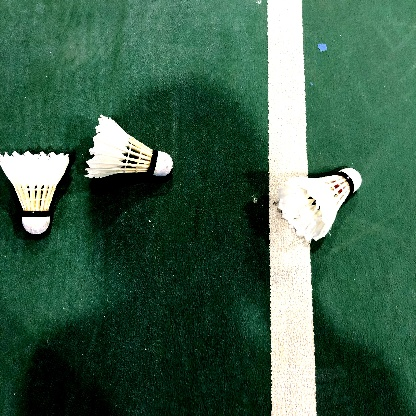ball_single: (277, 168, 362, 241), (0, 151, 69, 234), (84, 114, 173, 178)
